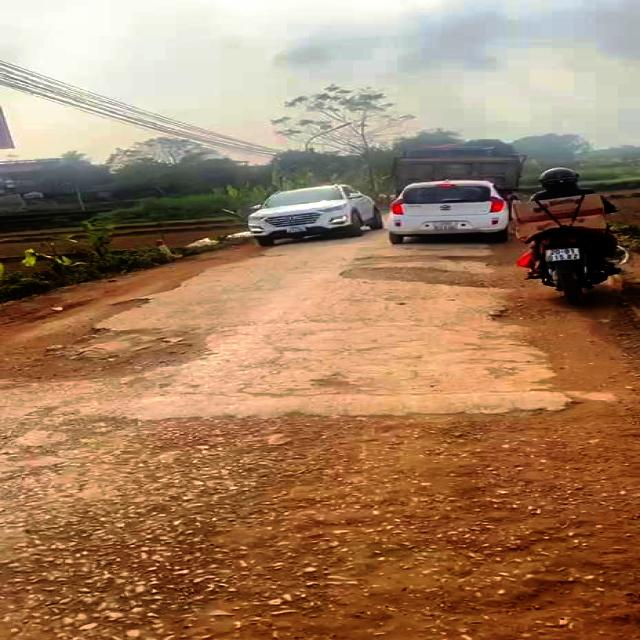pothole: (0, 294, 225, 382), (339, 253, 516, 291), (487, 304, 550, 326)
